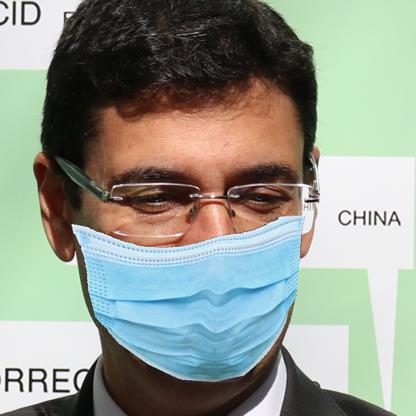mask: (65, 214, 311, 384)
